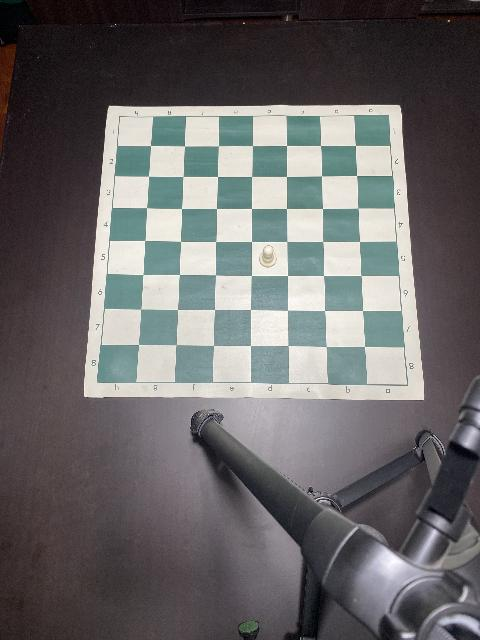board: (84, 104, 424, 400)
white-pawn: (259, 244, 277, 268)
